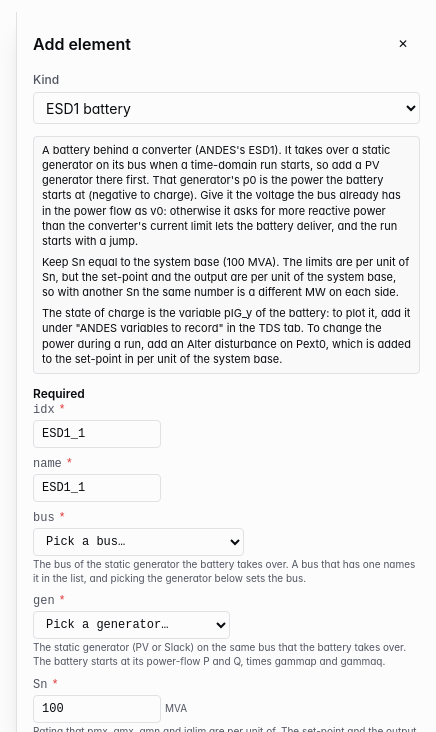
Test case: <AddElementPanel /> › adds a battery from its tile with the generator alone
Select "PV-PV_B — PV_B (bus 7)" in the dropdown with test id "gen-idx-select" at (132, 625), box [33, 611, 230, 639]
(page scrolled)
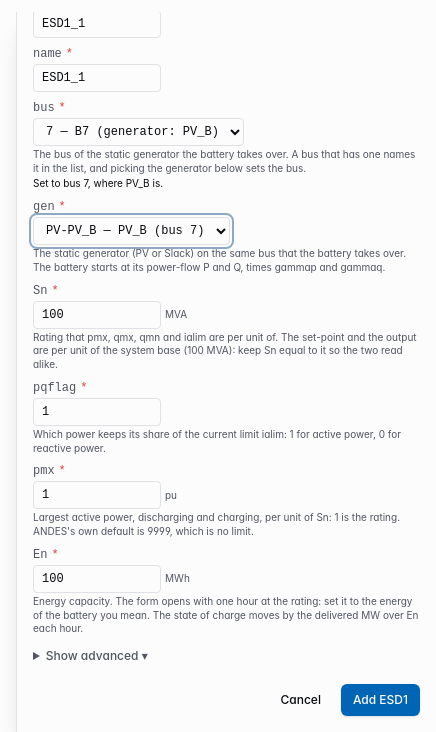
Click the button "Add ESD1".
click(380, 700)  # box [341, 684, 420, 716]
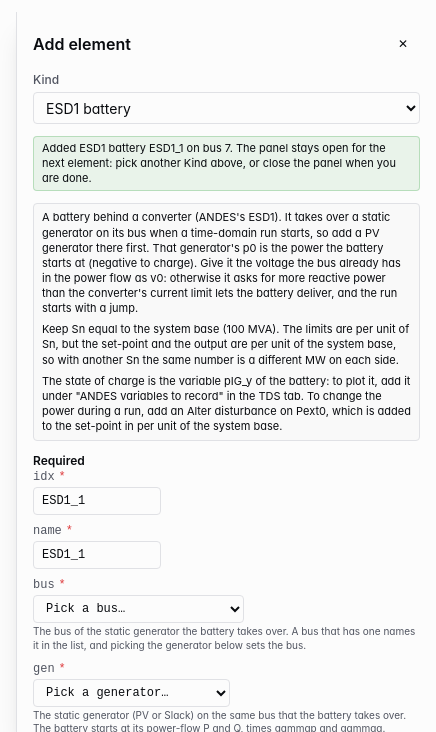
Result: the message with test id "add-element-success" shows "Added ESD1 battery ESD1_1 on bus 7." at [33, 136, 420, 191]
